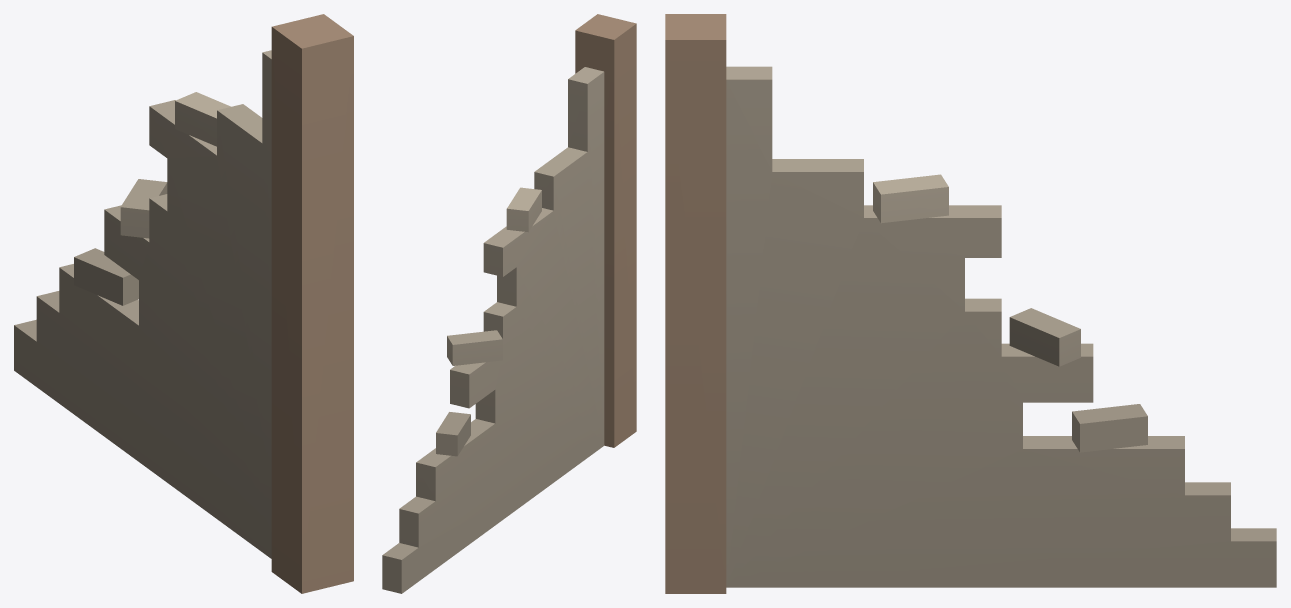
Rendered from wall_broken.glb.
3 views of the same model, side by side, from view 1: azimuth 30°, elevation 25°; view 2: azimuth 150°, elevation 25°; view 3: azimuth 270°, elevation 25° (orthographic). The views are drawn at different scales.
Parts seen in each view (by area): view 1: wall_broken; view 2: wall_broken; view 3: wall_broken.
Part boxes in pixels (bbox=[...]): wall_broken: bbox=[14, 14, 353, 593]; wall_broken: bbox=[382, 14, 636, 593]; wall_broken: bbox=[665, 14, 1276, 593].
Size of the model in its own units: 0.397 by 3.4 by 3.4.
